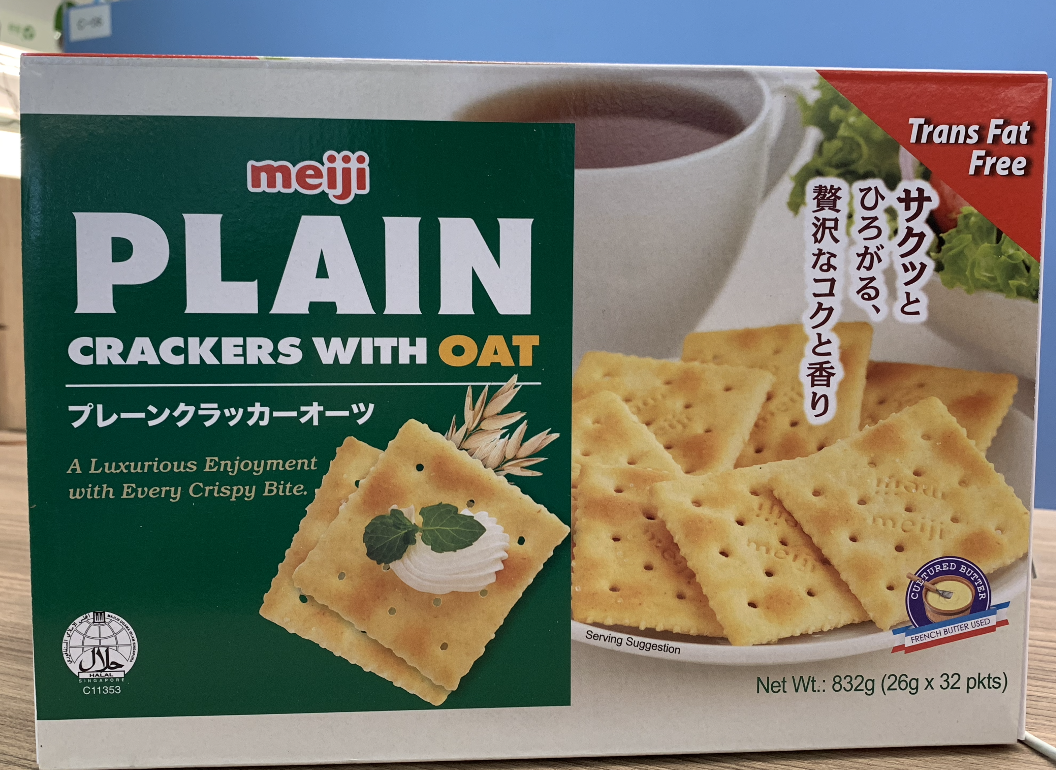crackers_550g: (55, 95, 1023, 711)
